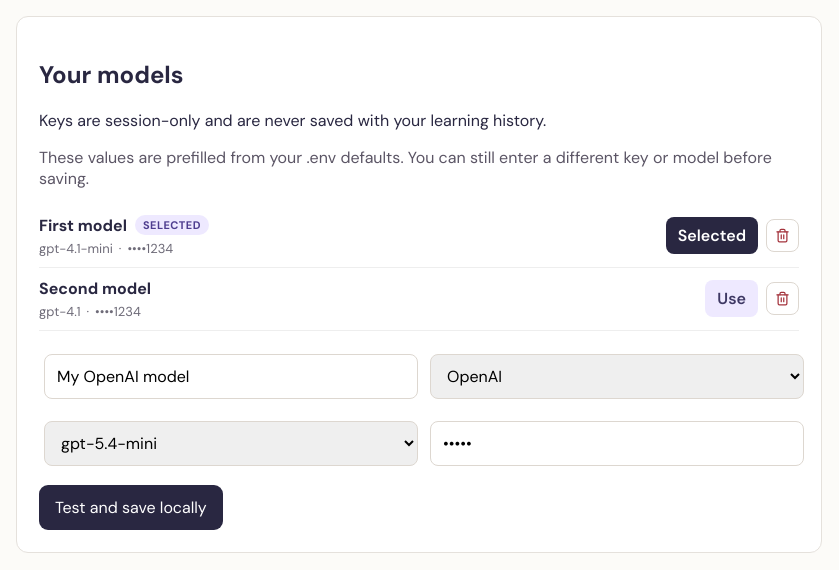
Test: ModelConnections › shows the selected connection and switches to another one when requested
expect the button with aria-label "selected first model" is shown: met, box x1=666 y1=217 x2=758 y2=254
Click the button with aria-label "Use Second model" at (732, 299), box x1=705 y1=280 x2=758 y2=317
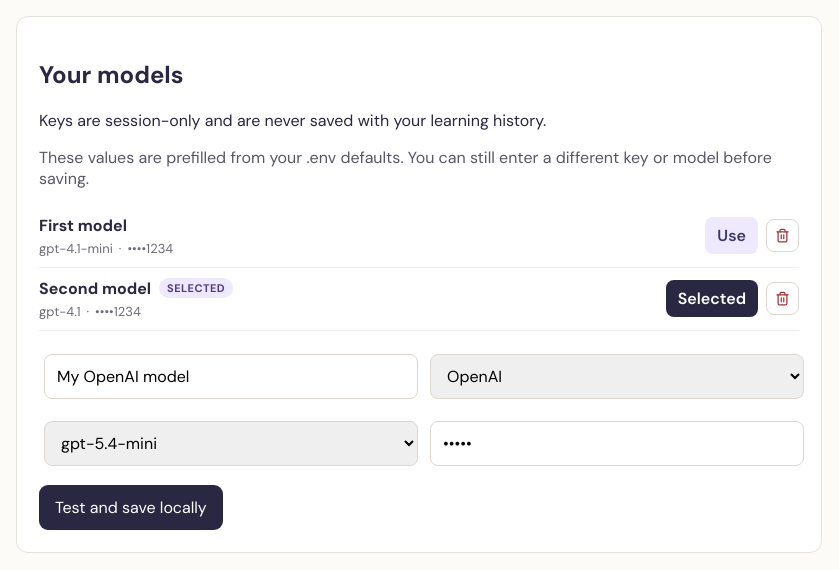
expect the button with aria-label "selected second model" is shown: met, box x1=666 y1=280 x2=758 y2=317
